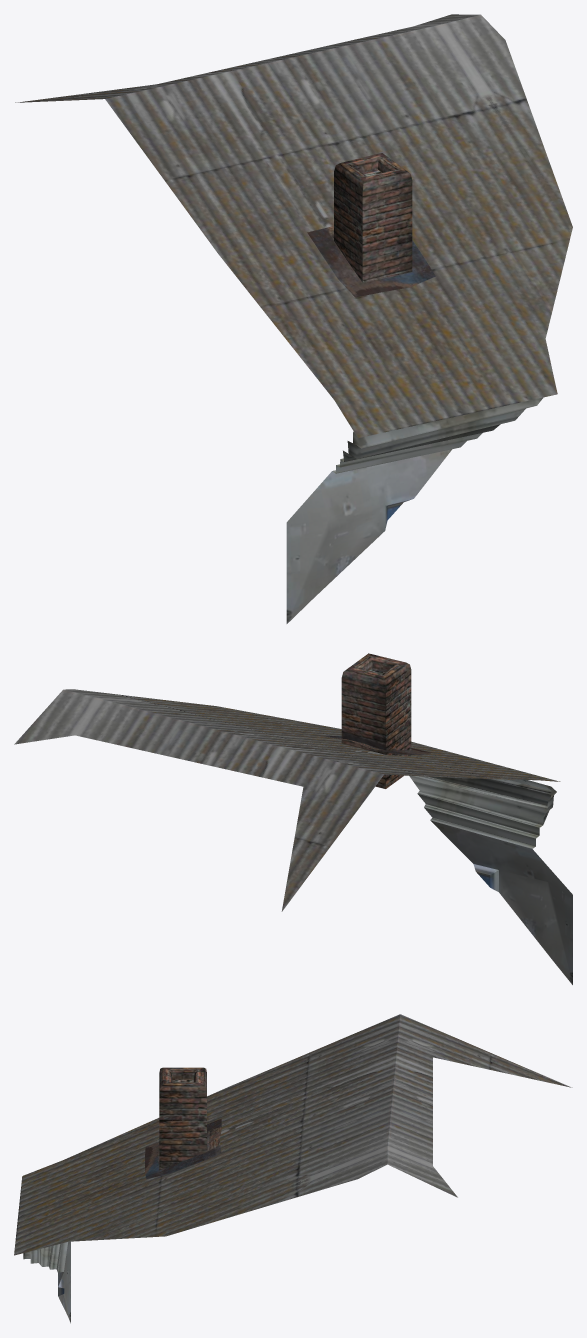
Rendered from House_03_14.fbx.
3 renders of one model, top to bottom at view 1: azimuth 30°, elevation 25°; view 2: azimuth 150°, elevation 25°; view 3: azimuth 270°, elevation 25°, orthographic. The views are drawn at different scales.
Visible parts, largest first — view 1: Дом2.014; view 2: Дом2.014; view 3: Дом2.014.
Part boxes in pixels (x1=…): Дом2.014: x1=15, y1=14, x2=572, y2=623; Дом2.014: x1=14, y1=653, x2=572, y2=984; Дом2.014: x1=14, y1=1014, x2=572, y2=1323.
Bounding box in the file's own units: 11.77 × 10.71 × 17.18.
1 material, 1 textured.
